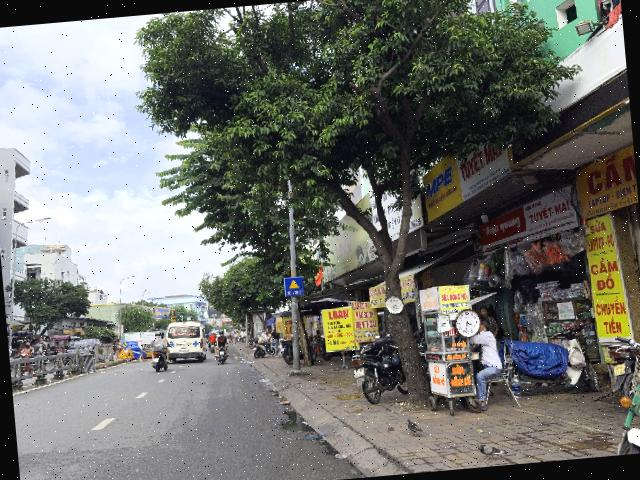khu-vuc-cho-phia-truoc: (283, 276, 304, 296)
